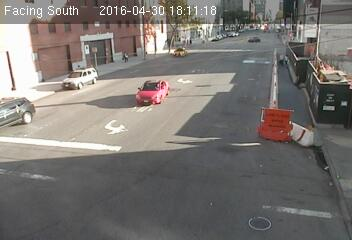neg: (255, 93, 272, 115), (152, 77, 168, 98), (321, 95, 336, 115), (245, 36, 258, 53), (179, 46, 183, 52)
pos: (277, 51, 287, 65), (120, 49, 129, 62), (283, 54, 291, 65)
